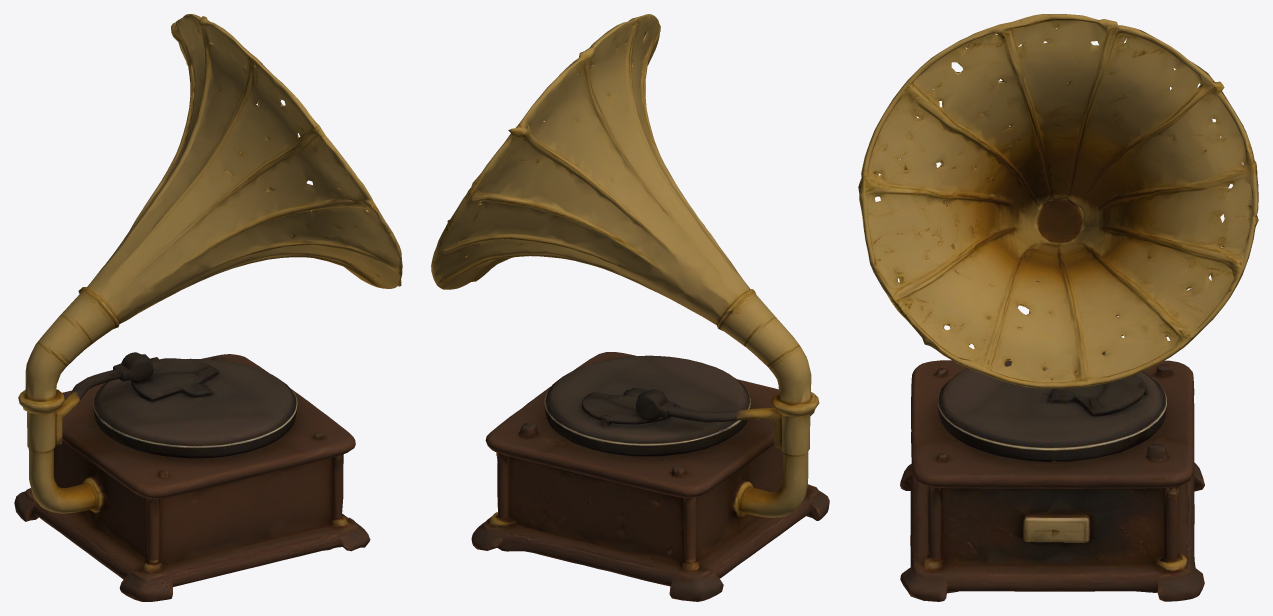
File: other.glb
The picture shows the model from 3 angles, left to right: view 1: azimuth 30°, elevation 25°; view 2: azimuth 150°, elevation 25°; view 3: azimuth 270°, elevation 25°; orthographic projection. The views are drawn at different scales.
Parts seen in each view (by area): view 1: tripo_node_51ebb30c-8e5f-4ec7-bccd-5bf339a1d3a9; view 2: tripo_node_51ebb30c-8e5f-4ec7-bccd-5bf339a1d3a9; view 3: tripo_node_51ebb30c-8e5f-4ec7-bccd-5bf339a1d3a9.
Part boxes in pixels (x1,y1,x2,y2): tripo_node_51ebb30c-8e5f-4ec7-bccd-5bf339a1d3a9: (14, 14, 402, 601); tripo_node_51ebb30c-8e5f-4ec7-bccd-5bf339a1d3a9: (431, 14, 829, 601); tripo_node_51ebb30c-8e5f-4ec7-bccd-5bf339a1d3a9: (858, 14, 1258, 601).
Bounding box in the file's own units: 0.7139 × 1 × 0.6654.
Materials: 1 (1 with a texture image).
